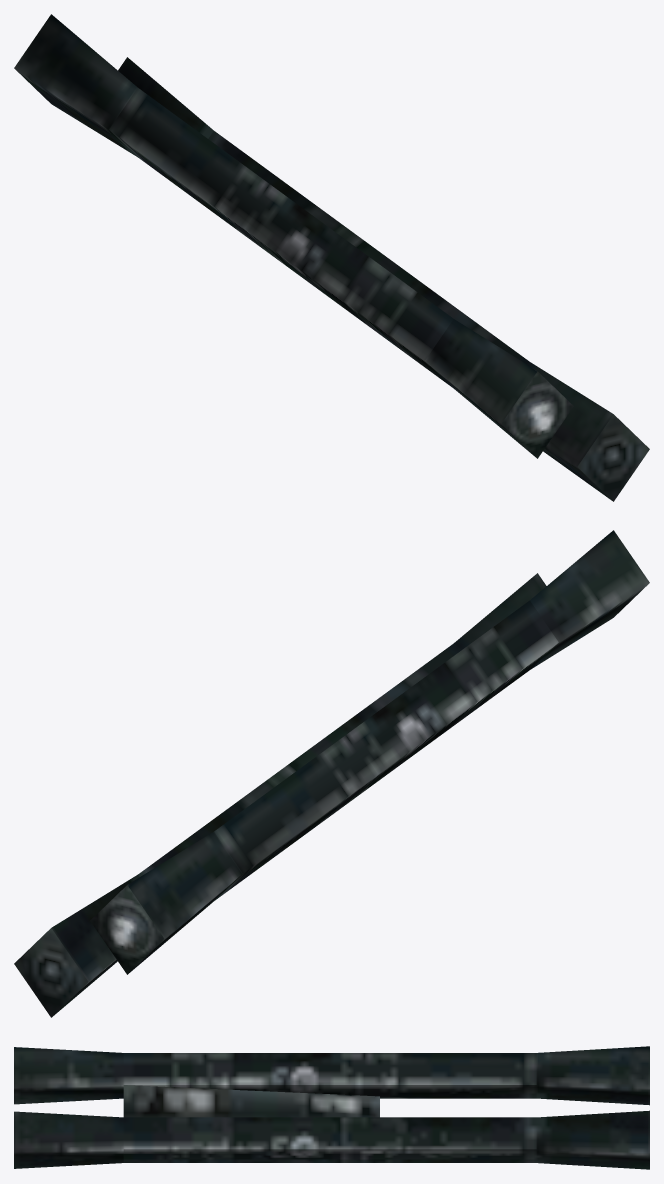
Rendered from wp_pistol_srcombat_scope_l1.fbx.
The picture shows the model from 3 angles, top to bottom: view 1: azimuth 30°, elevation 25°; view 2: azimuth 150°, elevation 25°; view 3: azimuth 270°, elevation 25°; orthographic projection. The views are drawn at different scales.
Parts seen in each view (by area): view 1: mesh_node; view 2: mesh_node; view 3: mesh_node.
Boxes of the visible parts, <box> form: mesh_node: <box>14,14,649,501</box>; mesh_node: <box>14,530,649,1017</box>; mesh_node: <box>14,1046,649,1169</box>.
Size of the model in its own units: 0.0479 by 0.0461 by 0.2678.
1 material, 1 textured.
